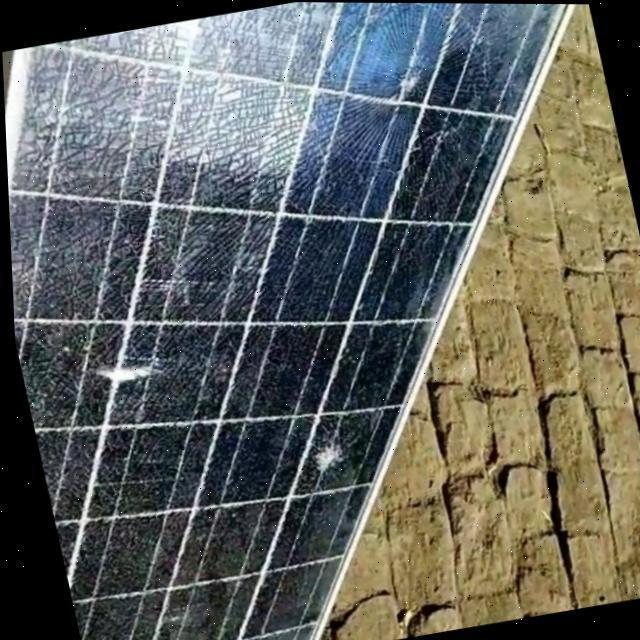Anomaly Solar Panel: (2, 2, 640, 640)
Structural Damage: (51, 2, 375, 201), (360, 20, 455, 140), (77, 339, 180, 405), (300, 436, 346, 478)
